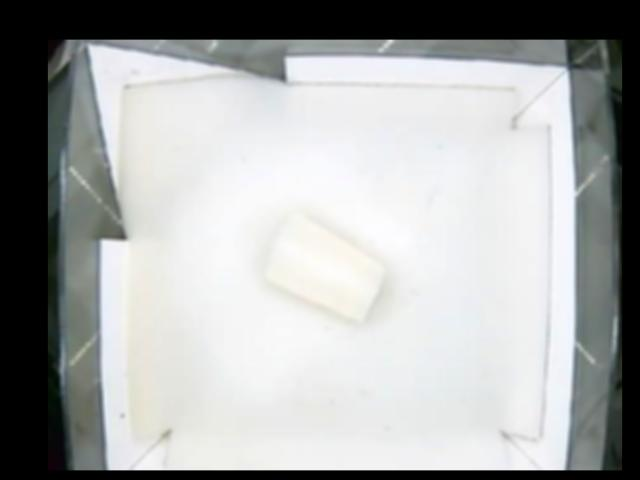Mooli: (265, 214, 386, 321)
